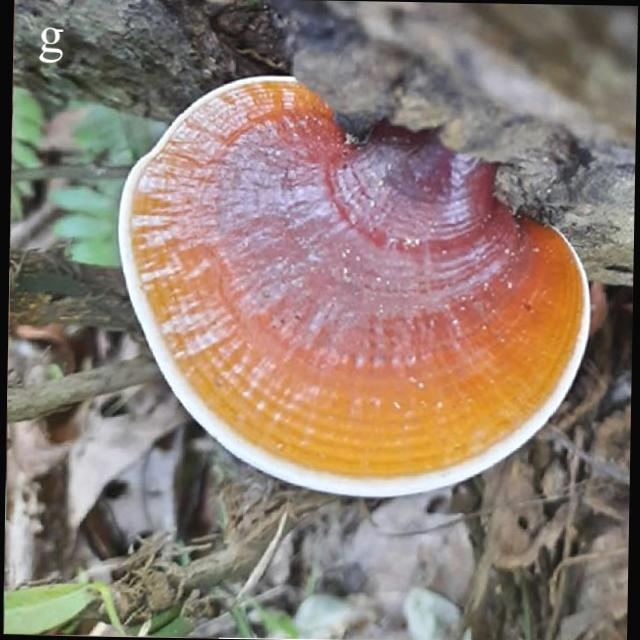ganoderma: (113, 71, 598, 506)
